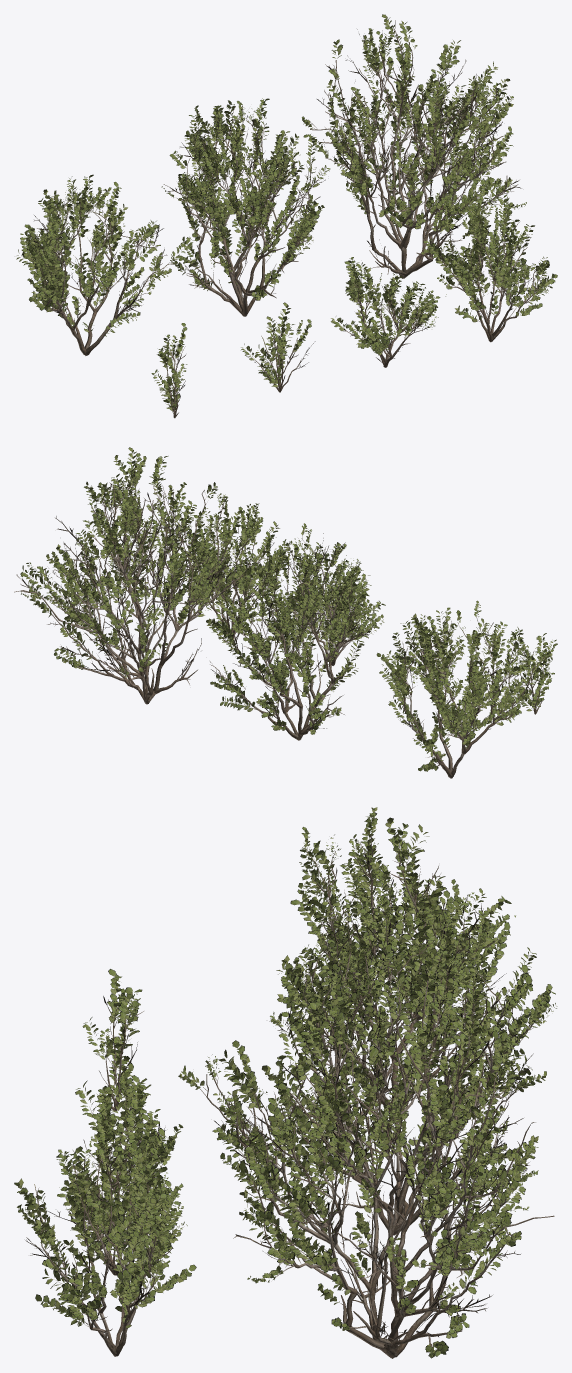
The model's file is searsia_lucida.glb.
3 renders of one model, top to bottom at view 1: azimuth 30°, elevation 25°; view 2: azimuth 150°, elevation 25°; view 3: azimuth 270°, elevation 25°, orthographic. The views are drawn at different scales.
Parts seen in each view (by area): view 1: searsia_lucida_a_LOD0; view 2: searsia_lucida_a_LOD0; view 3: searsia_lucida_a_LOD0.
Part boxes in pixels (x1,y1,x2,y2): searsia_lucida_a_LOD0: (16,14,557,418); searsia_lucida_a_LOD0: (14,447,557,778); searsia_lucida_a_LOD0: (14,807,557,1358).
Bounding box in the file's own units: 4.78 × 2.33 × 2.84.
2 materials, 2 textured.
